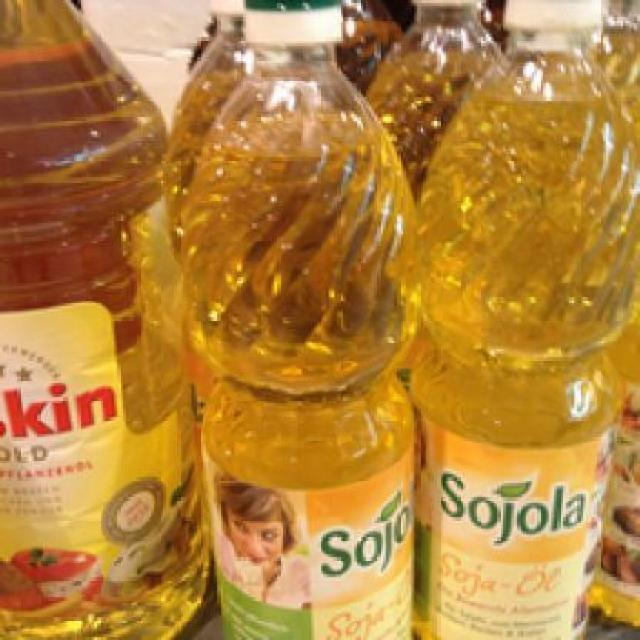Oil: (173, 0, 415, 635), (404, 0, 638, 635), (0, 0, 206, 637)
